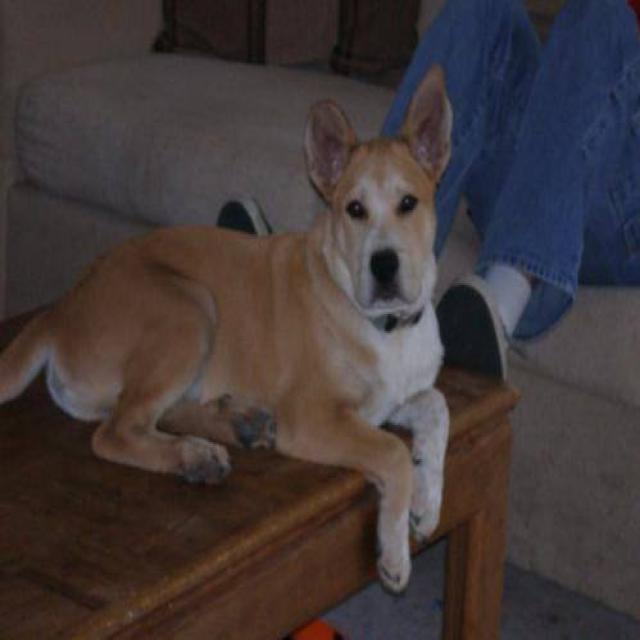dog: (0, 61, 454, 594)
